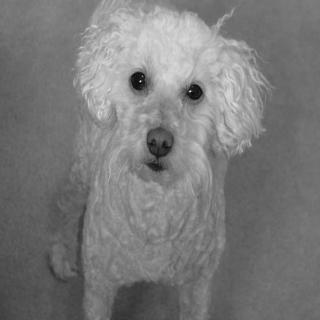dog: (83, 0, 259, 185)
nose: (144, 125, 175, 159)
